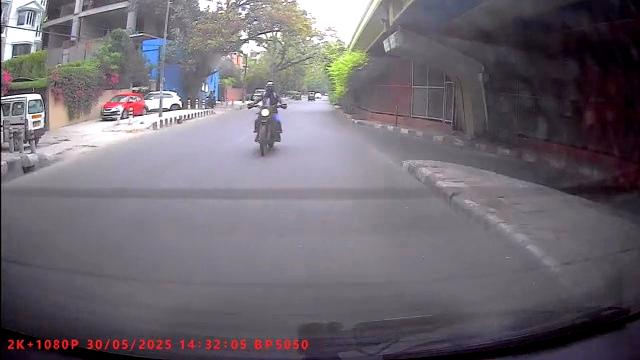motorcycle_with_helmet: (250, 79, 287, 158)
